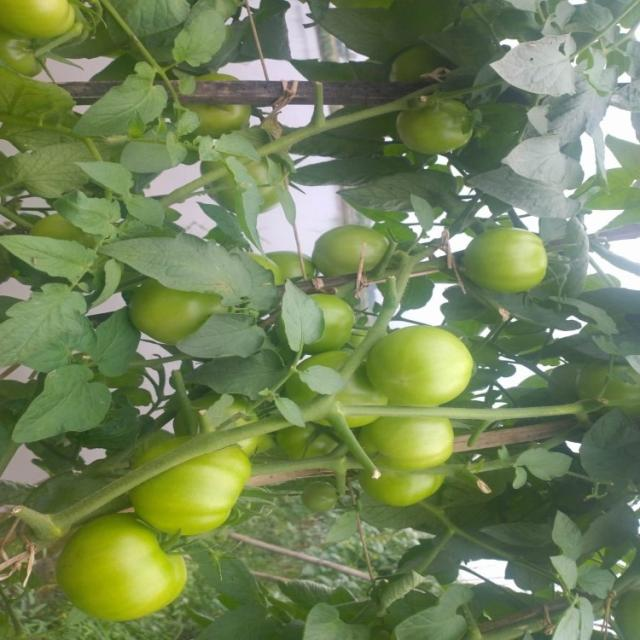tomato: (64, 509, 216, 625), (136, 435, 269, 541), (474, 214, 585, 322), (356, 323, 478, 414), (122, 273, 231, 352), (353, 452, 456, 520), (395, 95, 481, 171), (4, 1, 114, 57), (366, 410, 459, 472), (182, 75, 264, 143), (300, 290, 372, 366), (317, 208, 385, 280), (571, 359, 640, 417), (5, 32, 49, 78)
